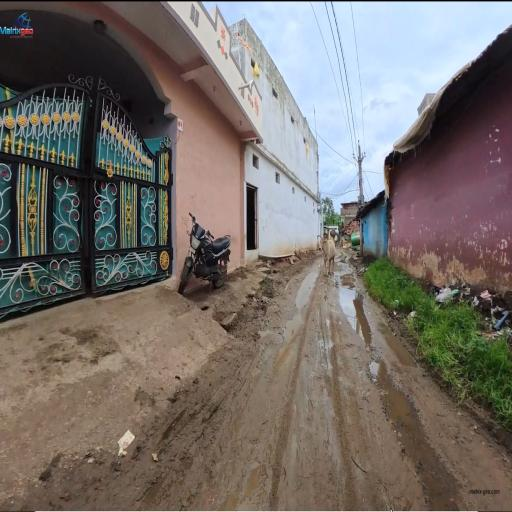pothole: (366, 345, 404, 461)
